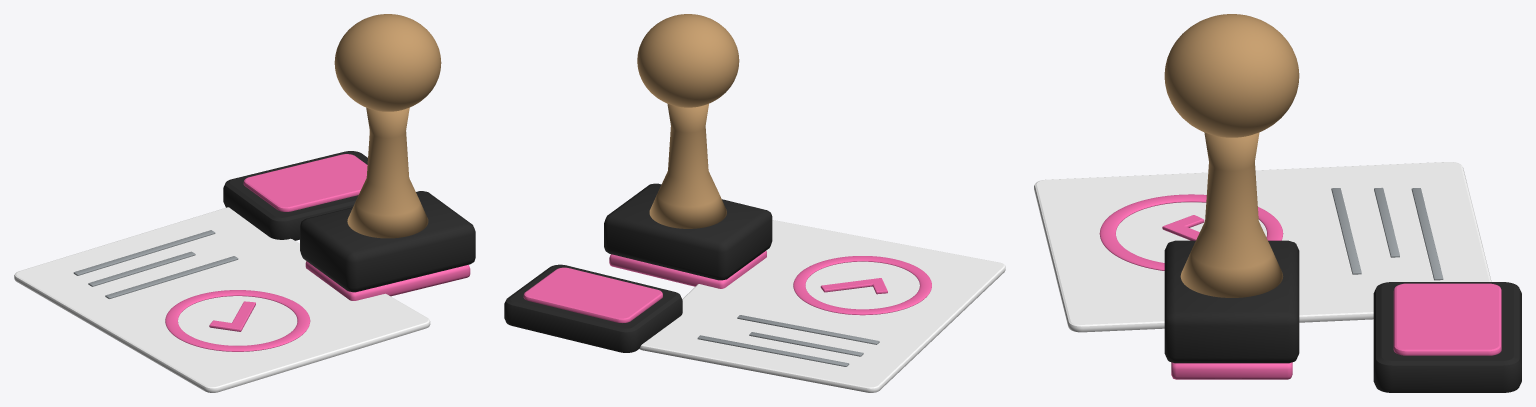
The model's file is tampon.glb.
3 renders of one model, left to right at view 1: azimuth 30°, elevation 25°; view 2: azimuth 150°, elevation 25°; view 3: azimuth 270°, elevation 25°, orthographic. The views are drawn at different scales.
Visible parts, largest first — view 1: ext, box.004, sph, lathe, ext.003, ext.002, tor, box.003, box, box.002, box.001, ext.001; view 2: ext, box.004, sph, ext.002, lathe, ext.003, tor, box.003, box, box.002, ext.001, box.001; view 3: ext, sph, box.004, lathe, ext.002, ext.003, tor, box.003, box, box.002, box.001, ext.001.
Boxes of the visible parts, x1,y1,x2,y2 form: ext: [14, 207, 430, 392]; box.004: [300, 191, 475, 292]; sph: [334, 14, 441, 111]; lathe: [347, 107, 428, 238]; ext.003: [243, 154, 367, 211]; ext.002: [223, 151, 367, 240]; tor: [165, 290, 310, 351]; box.003: [305, 261, 470, 300]; box: [73, 230, 215, 275]; box.002: [105, 256, 238, 298]; box.001: [88, 251, 195, 286]; ext.001: [209, 301, 255, 331]; ext: [639, 220, 1005, 392]; box.004: [604, 183, 772, 280]; sph: [637, 14, 739, 107]; ext.002: [504, 264, 682, 352]; lathe: [649, 103, 726, 228]; ext.003: [523, 267, 662, 322]; tor: [793, 256, 931, 315]; box.003: [609, 251, 766, 288]; box: [697, 335, 849, 366]; box.002: [737, 315, 879, 344]; ext.001: [820, 278, 887, 294]; box.001: [749, 332, 863, 356]; ext: [1034, 162, 1491, 332]; sph: [1164, 14, 1299, 137]; box.004: [1164, 240, 1299, 363]; lathe: [1180, 132, 1283, 297]; ext.002: [1373, 282, 1521, 392]; ext.003: [1393, 283, 1501, 355]; tor: [1099, 194, 1283, 270]; box.003: [1171, 362, 1292, 379]; box: [1411, 188, 1443, 280]; box.002: [1331, 188, 1361, 274]; box.001: [1374, 187, 1399, 257]; ext.001: [1162, 215, 1204, 240].
Size of the model in its own units: 4 by 2.65 by 3.62.
